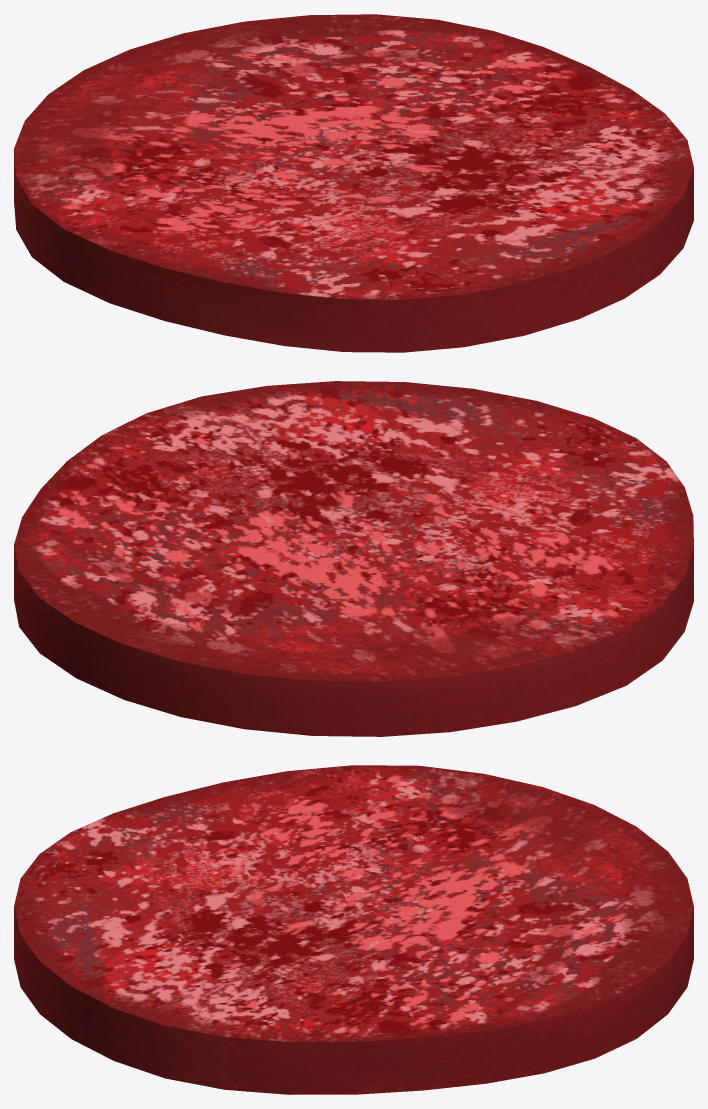
Rendered from sucukV2_SLICE.fbx.
3 renders of one model, top to bottom at view 1: azimuth 30°, elevation 25°; view 2: azimuth 150°, elevation 25°; view 3: azimuth 270°, elevation 25°, orthographic. The views are drawn at different scales.
Visible parts, largest first — view 1: Cylinder; view 2: Cylinder; view 3: Cylinder.
Boxes of the visible parts, bbox=[...] form: Cylinder: bbox=[14, 14, 693, 352]; Cylinder: bbox=[14, 381, 693, 736]; Cylinder: bbox=[14, 765, 693, 1094].
Size of the model in its own units: 3.8 by 0.337 by 3.94.
